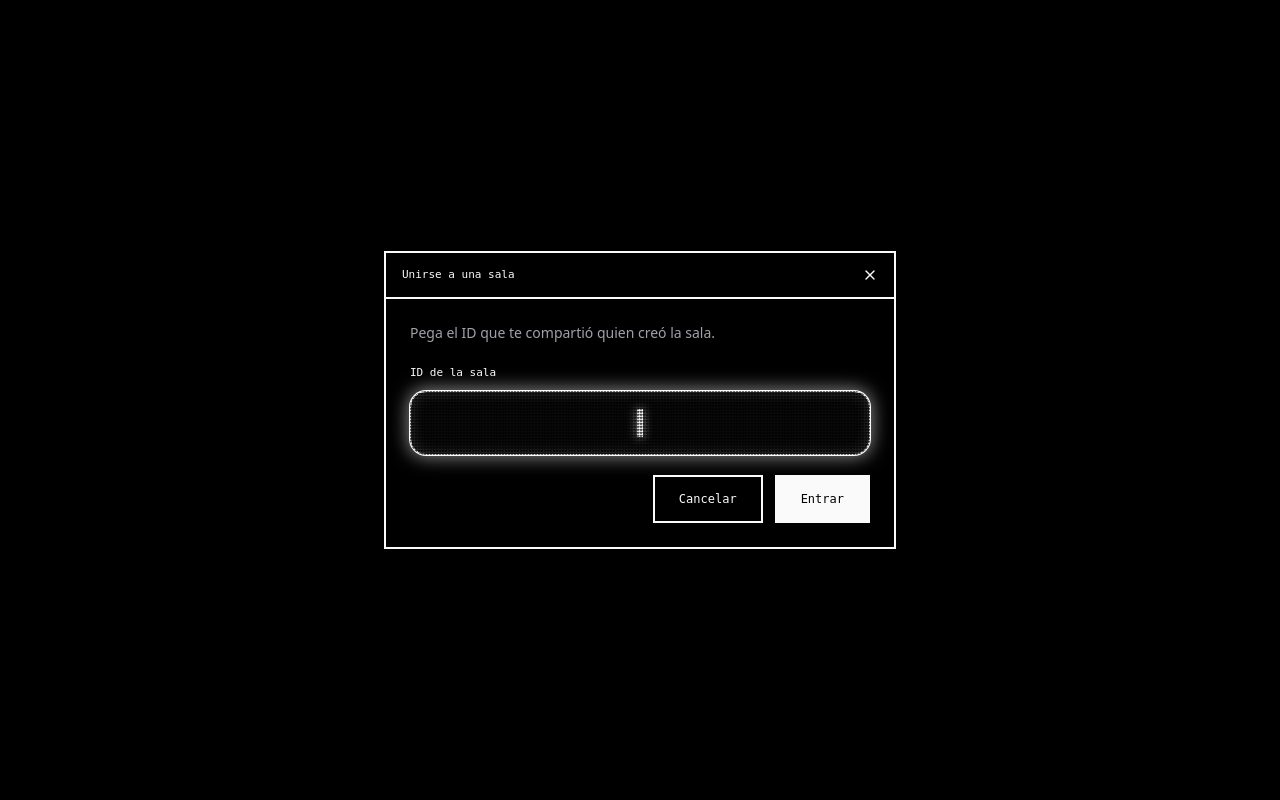
Test case: Unirse a una sala (US-08) › con «» avisa sin consultar al servidor
The width and height of the screenshot is (1280, 800).
What coordinates should you click on to do the following:
click the button "Entrar"
I would click on:
 (822, 499)
Its box is [775,475,870,523].
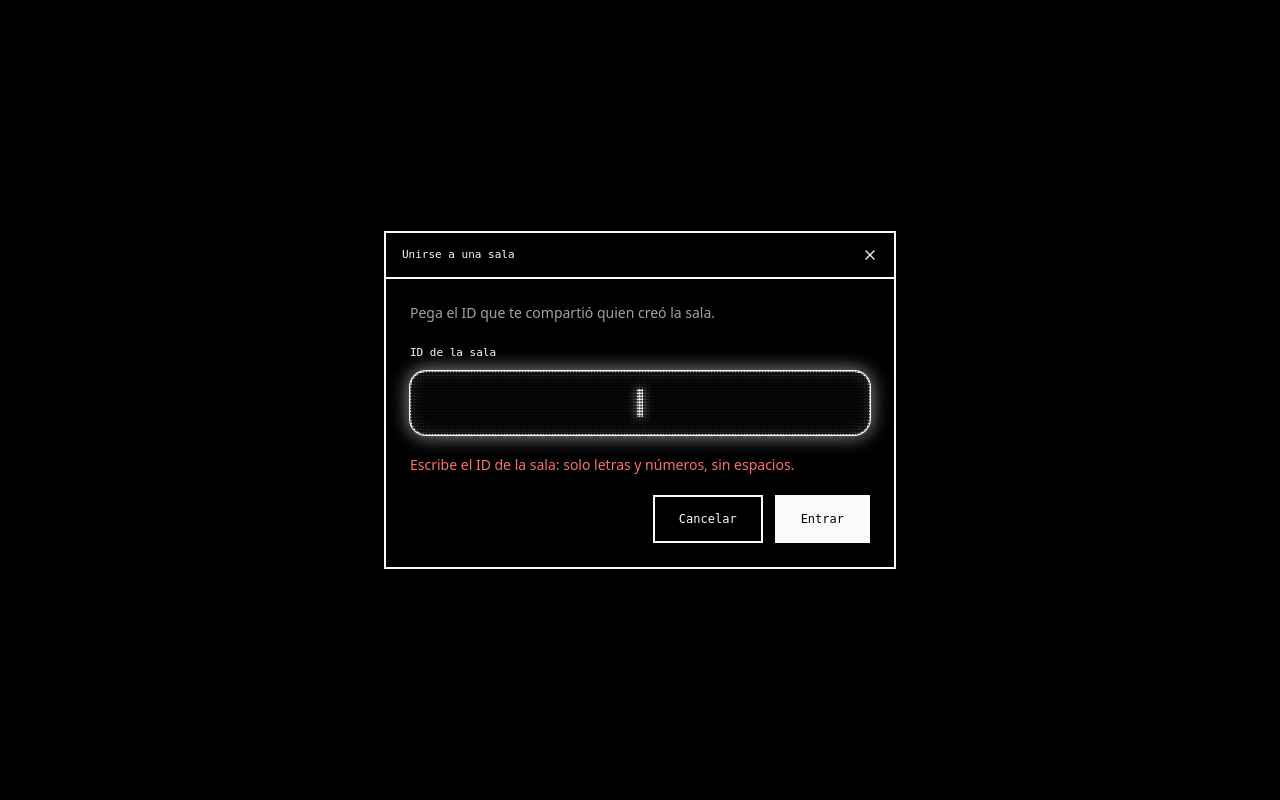
Now the message shows "solo letras y números, sin espacios", box [410,455,794,474]
